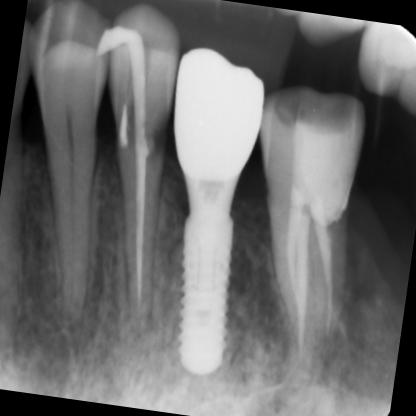ITI: (162, 172, 245, 382)
